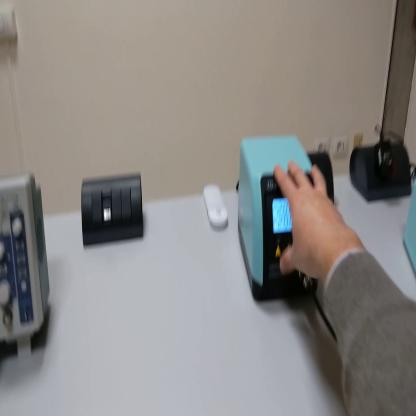hand: (274, 158, 355, 282)
oscilloscope: (2, 175, 52, 361)
socket: (350, 141, 413, 202), (309, 151, 336, 205)
welder base: (401, 177, 415, 268)
welder station: (237, 142, 316, 310)
